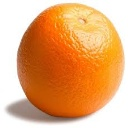orange: (15, 1, 126, 120)
